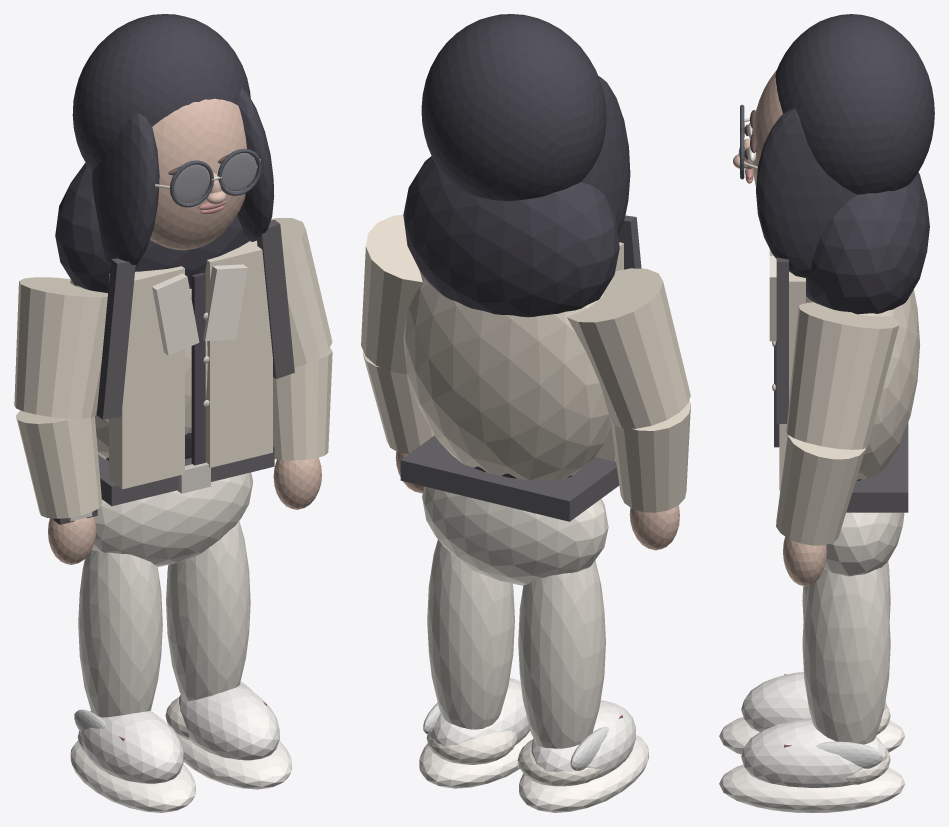
File: LU-DESI-01.glb
3 views of the same model, side by side, from view 1: azimuth 30°, elevation 25°; view 2: azimuth 150°, elevation 25°; view 3: azimuth 270°, elevation 25° (orthographic). The views are drawn at different scales.
Parts seen in each view (by area): view 1: Hijab_crown, Trouser_L_leg, Trouser_R_leg, Jacket_L_upper_sleeve, Jacket_front_left, Jacket_front_right, Trousers_hip, Face, Hijab_left_frame, Jacket_L_lower_sleeve, Hijab_drape_shoulders, Sneaker_L_upper (+20 smaller); view 2: Jacket_body, Hijab_crown, Hijab_drape_shoulders, Trouser_L_leg, Jacket_L_upper_sleeve, Trouser_R_leg, Trousers_hip, Black_belt, Jacket_R_upper_sleeve, Jacket_L_lower_sleeve, Sneaker_L_sole, Jacket_R_lower_sleeve (+9 smaller); view 3: Hijab_crown, Trouser_R_leg, Jacket_R_upper_sleeve, Hijab_drape_shoulders, Hijab_right_frame, Jacket_R_lower_sleeve, Sneaker_R_upper, Jacket_body, Sneaker_R_sole, Trousers_hip, Sneaker_L_upper, Black_belt (+8 smaller).
Boxes of the visible parts, x1,y1,x2,y2 form: Hijab_crown: (72,14,250,171); Trouser_L_leg: (78,549,162,717); Trouser_R_leg: (166,521,250,700); Jacket_L_upper_sleeve: (14,277,107,418); Jacket_front_left: (109,266,184,489); Jacket_front_right: (205,240,272,467); Trousers_hip: (92,472,253,566); Face: (150,98,246,250); Hijab_left_frame: (92,113,159,267); Jacket_L_lower_sleeve: (16,410,102,518); Hijab_drape_shoulders: (55,163,249,292); Sneaker_L_upper: (80,711,183,783); Jacket_body: (403,270,611,480); Hijab_crown: (421,14,606,200); Hijab_drape_shoulders: (403,156,619,317); Trouser_L_leg: (518,560,605,748); Jacket_L_upper_sleeve: (567,268,690,428); Trouser_R_leg: (427,539,514,729); Trousers_hip: (422,486,608,585); Black_belt: (400,435,619,521); Jacket_R_upper_sleeve: (361,214,422,374); Jacket_L_lower_sleeve: (611,401,690,512); Sneaker_L_sole: (519,735,648,812); Jacket_R_lower_sleeve: (362,351,434,454); Hijab_crown: (775,14,934,194); Trouser_R_leg: (802,567,890,744); Jacket_R_upper_sleeve: (786,302,899,449); Hijab_drape_shoulders: (806,172,929,314); Hijab_right_frame: (756,108,856,277); Jacket_R_lower_sleeve: (776,435,865,545); Sneaker_R_upper: (741,719,887,787); Jacket_body: (806,289,920,480); Sneaker_R_sole: (719,764,905,812); Trousers_hip: (824,512,904,576); Sneaker_L_upper: (741,672,887,731); Black_belt: (846,422,908,512).
Size of the model in its own units: 0.7328 by 1.71 by 0.44.
